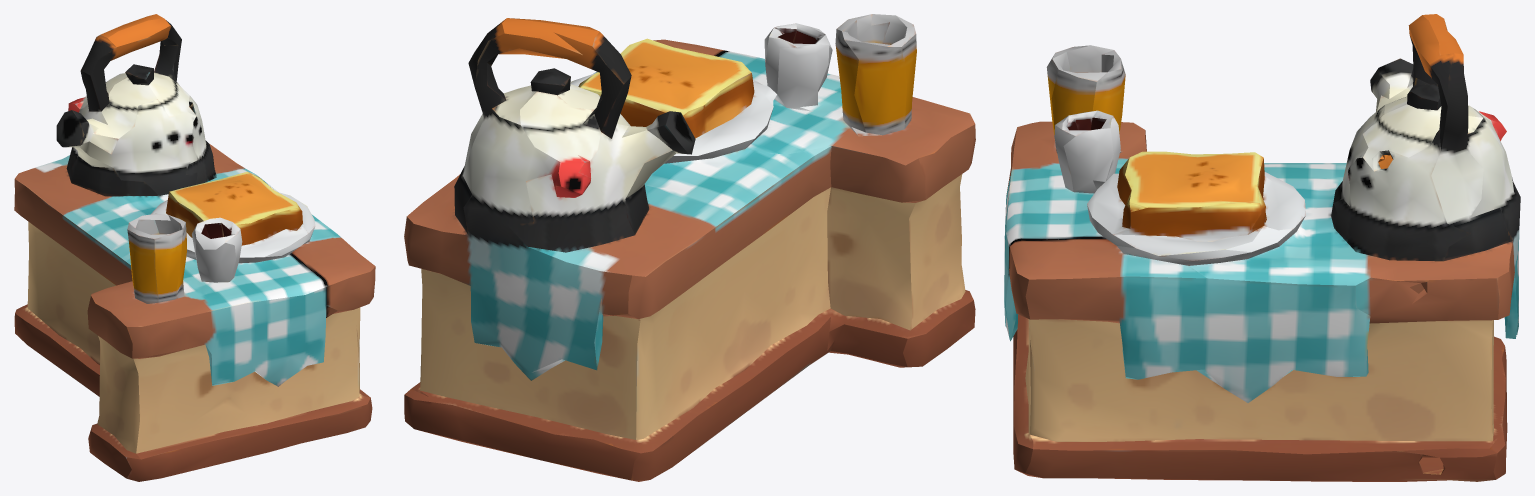
Rendered from kitchen-counter.glb.
The picture shows the model from 3 angles, left to right: view 1: azimuth 30°, elevation 25°; view 2: azimuth 150°, elevation 25°; view 3: azimuth 270°, elevation 25°; orthographic projection. The views are drawn at different scales.
Visible parts, largest first — view 1: geometry_0; view 2: geometry_0; view 3: geometry_0.
Boxes of the visible parts, left/top/right/bottom form: geometry_0: left=14, top=14, right=375, bottom=481; geometry_0: left=404, top=14, right=975, bottom=481; geometry_0: left=1004, top=14, right=1520, bottom=481.
Size of the model in its own units: 0.7437 by 0.8511 by 1.
Materials: 1 (1 with a texture image).
